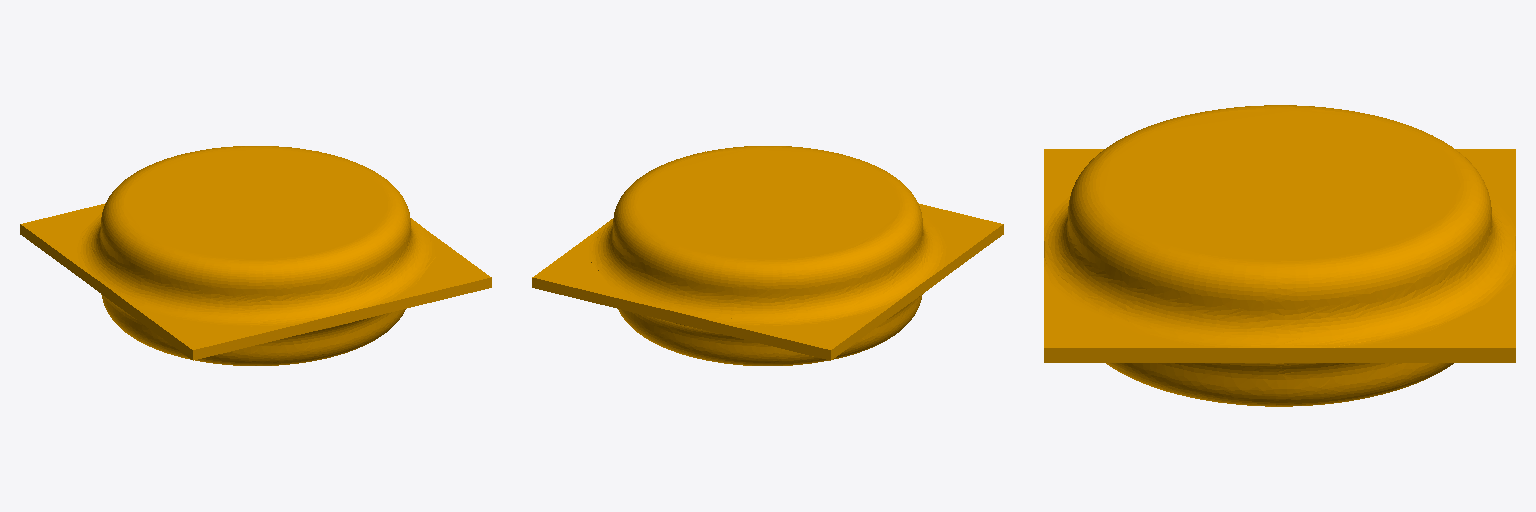
robot.urdf — Dishwasher tab:
<?xml version="1.0"?>
<robot name="Dishwasher tab">
  <link name="base_link">
    <inertial>
      <origin xyz="0.000000 -0.000000 -0.000000" rpy="0 0 0" />
      <mass value="0.006057" />
      <inertia ixx="0.00000035" ixy="-0.00000000" ixz="-0.00000000"
               iyy="0.00000035" iyz="0.00000000" izz="0.00000061" />
    </inertial>
    <visual>
      <geometry><mesh filename="Dishwasher tab.stl" scale="1.0 1.0 1.0" /></geometry>
    </visual>
    <collision>
      <geometry><mesh filename="Dishwasher tab_col.obj" scale="1.0 1.0 1.0" /></geometry>
    </collision>
    <contact>
      <lateral_friction value="1.0"/>
    </contact>
  </link>
</robot>

--- Facts derived from the render (not from the file) ---
Views: 3 orthographic renders of the robot side by side, from view 1: azimuth 30°, elevation 25°; view 2: azimuth 150°, elevation 25°; view 3: azimuth 270°, elevation 25°.
Robot: Dishwasher tab — 1 links, 0 joints (none); root link base_link; default pose: all joints at 0.
Visible links, largest first — view 1: base_link; view 2: base_link; view 3: base_link.
Link boxes in pixels (box(x1,y1,x2,y2)): base_link: box(20, 146, 491, 365); base_link: box(532, 146, 1003, 365); base_link: box(1044, 105, 1515, 406).
Size in the robot's own frame: 0.03 by 0.03 by 0.01 metres.
Meshes: 1 distinct files referenced, 1 mesh visuals loaded (1 binary STL).
